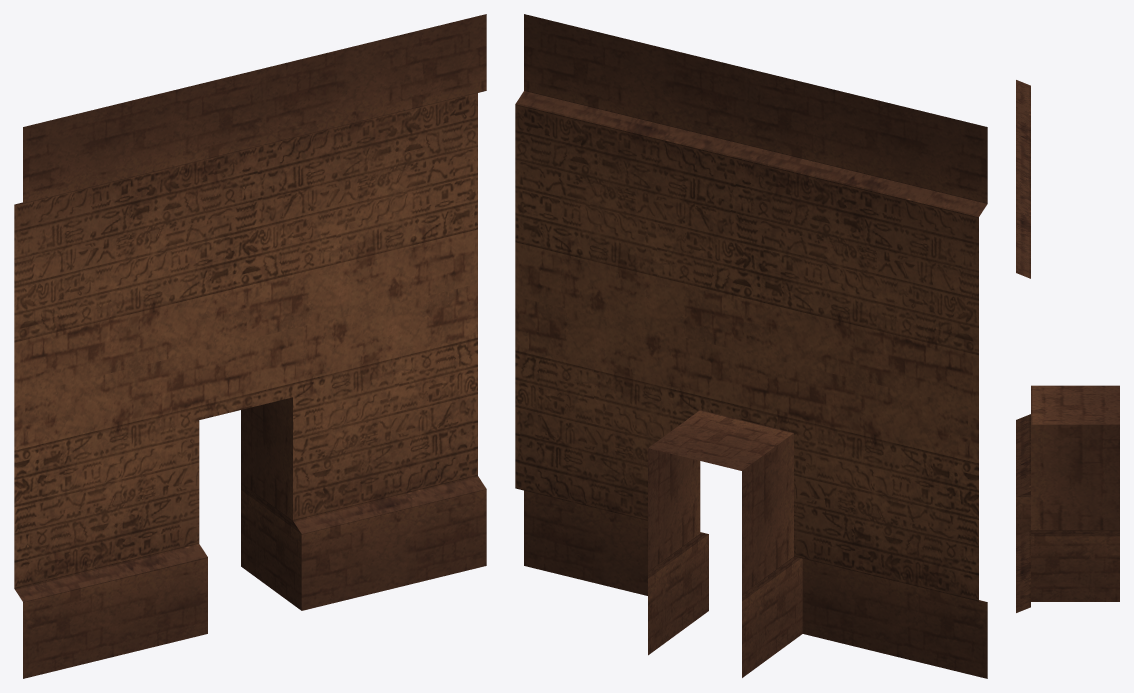
File: Wall_Inside_Door_1x1.fbx
3 views of the same model, side by side, from view 1: azimuth 30°, elevation 25°; view 2: azimuth 150°, elevation 25°; view 3: azimuth 270°, elevation 25° (orthographic). The views are drawn at different scales.
Parts seen in each view (by area): view 1: Wall_Inside_Door_1x1; view 2: Wall_Inside_Door_1x1; view 3: Wall_Inside_Door_1x1.
Boxes of the visible parts, box(x1,y1,x2,y2) form: Wall_Inside_Door_1x1: box(14, 14, 486, 678); Wall_Inside_Door_1x1: box(515, 14, 987, 678); Wall_Inside_Door_1x1: box(1016, 80, 1119, 612).
Size of the model in its own units: 116 by 132 by 26.46.
